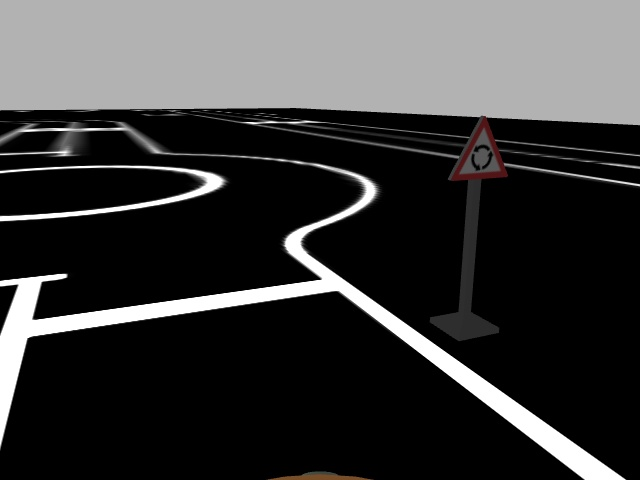roundabout: (446, 113, 510, 182)
